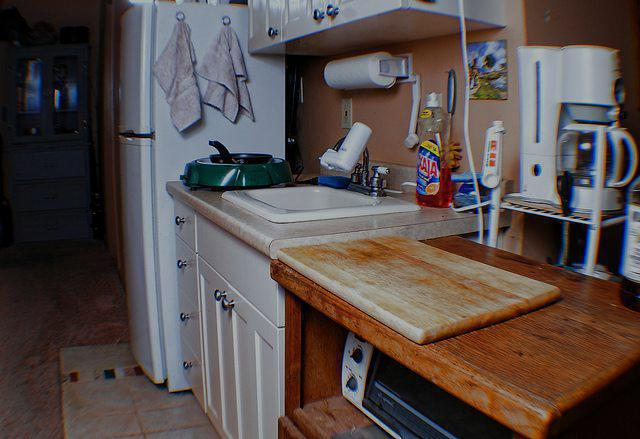Lavaplatos: (216, 114, 431, 237)
